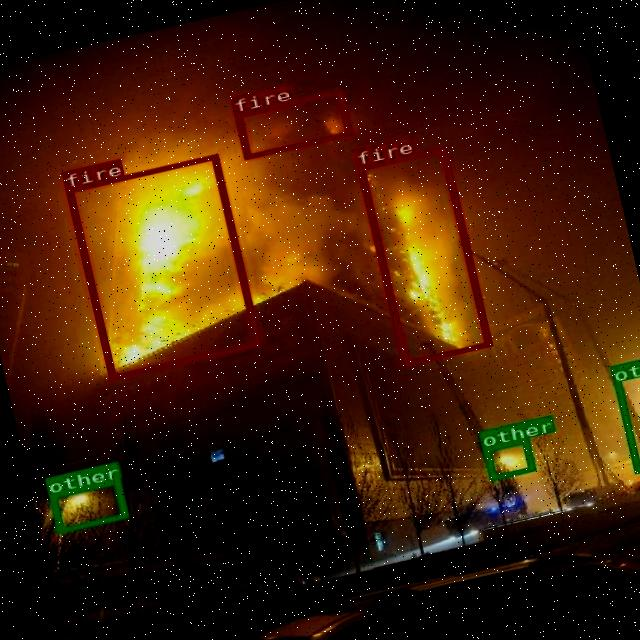fire: (64, 153, 260, 379), (355, 145, 491, 365), (232, 88, 350, 159)
